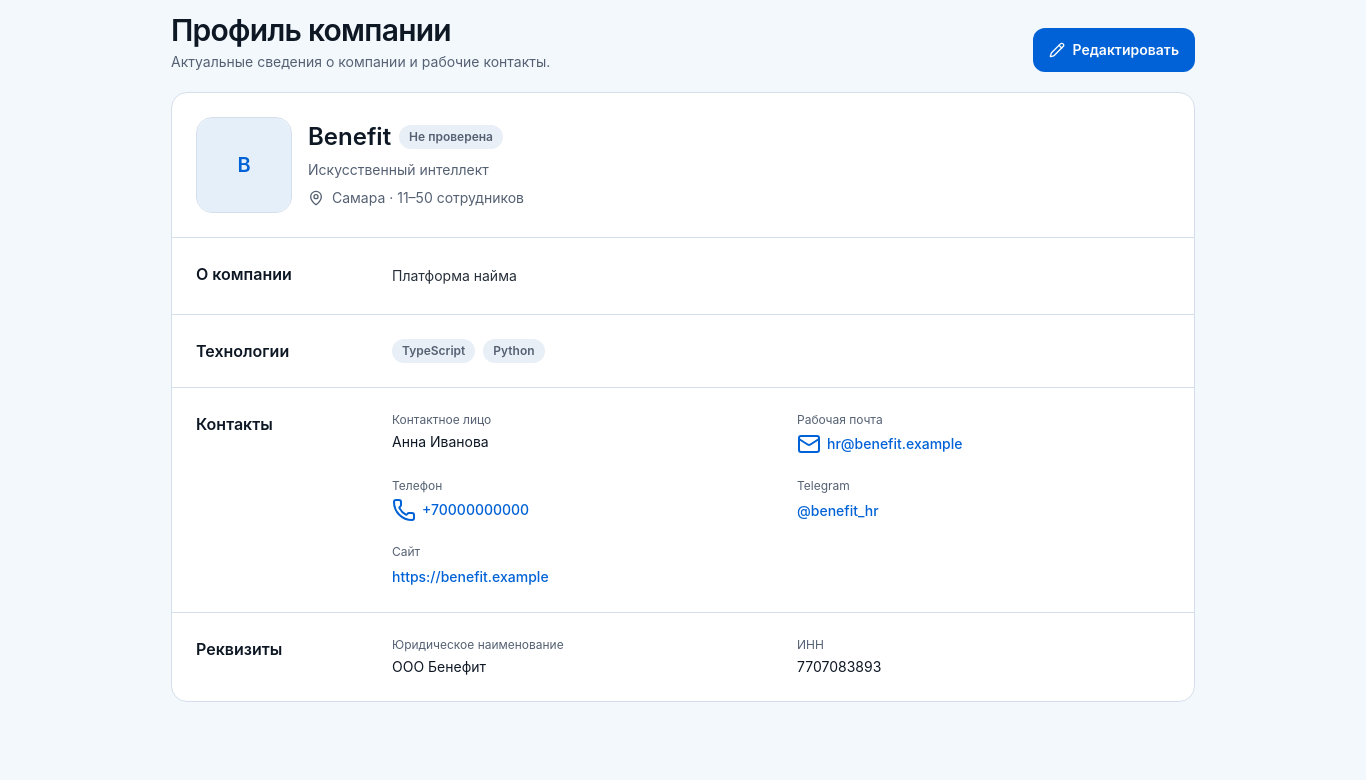
Test: employer company profile › loads every field, sends a full PUT and resets from the server response
The width and height of the screenshot is (1366, 780).
Click the button "Редактировать": click(1114, 50) [1033,28,1195,72]
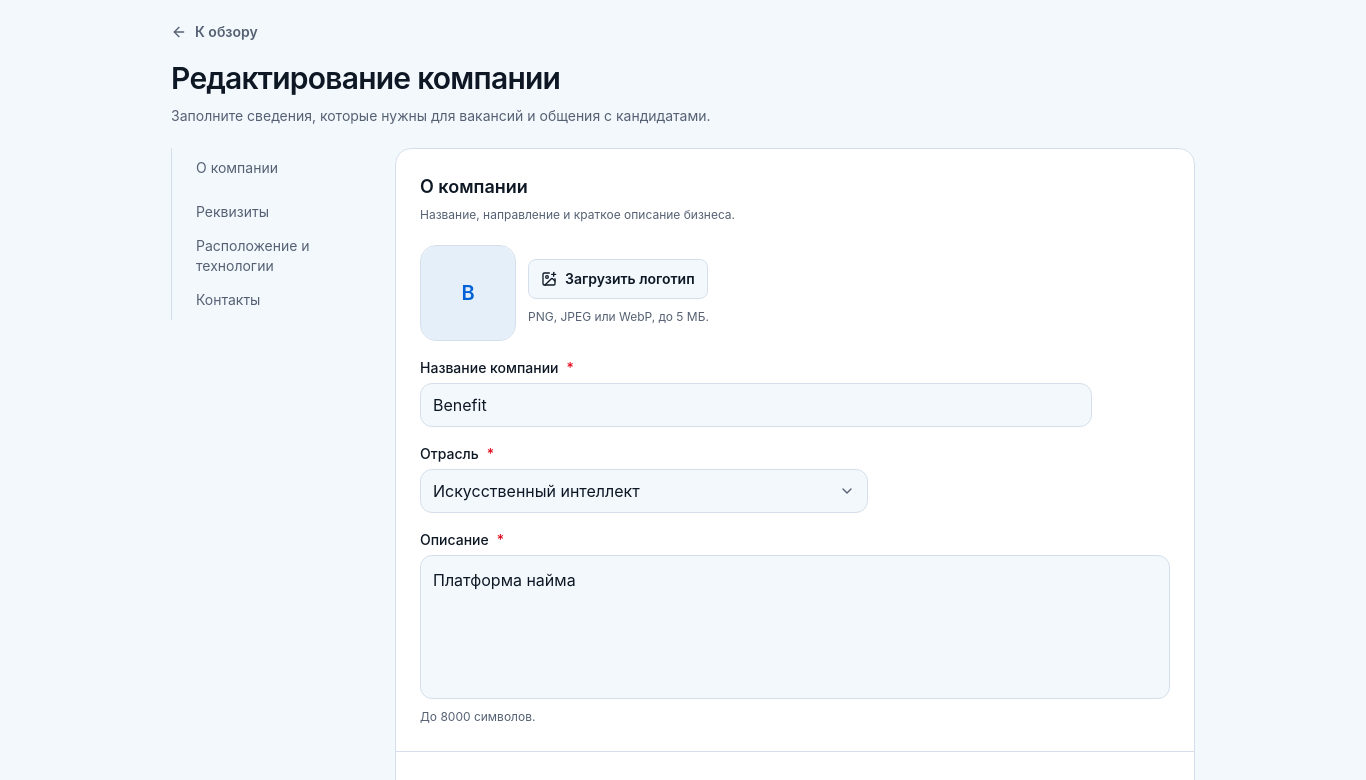
expect the field labelled "Название компании *" holds "Benefit": met
Clear the field labelled "Название компании *": (756, 405) [420,383,1092,427]
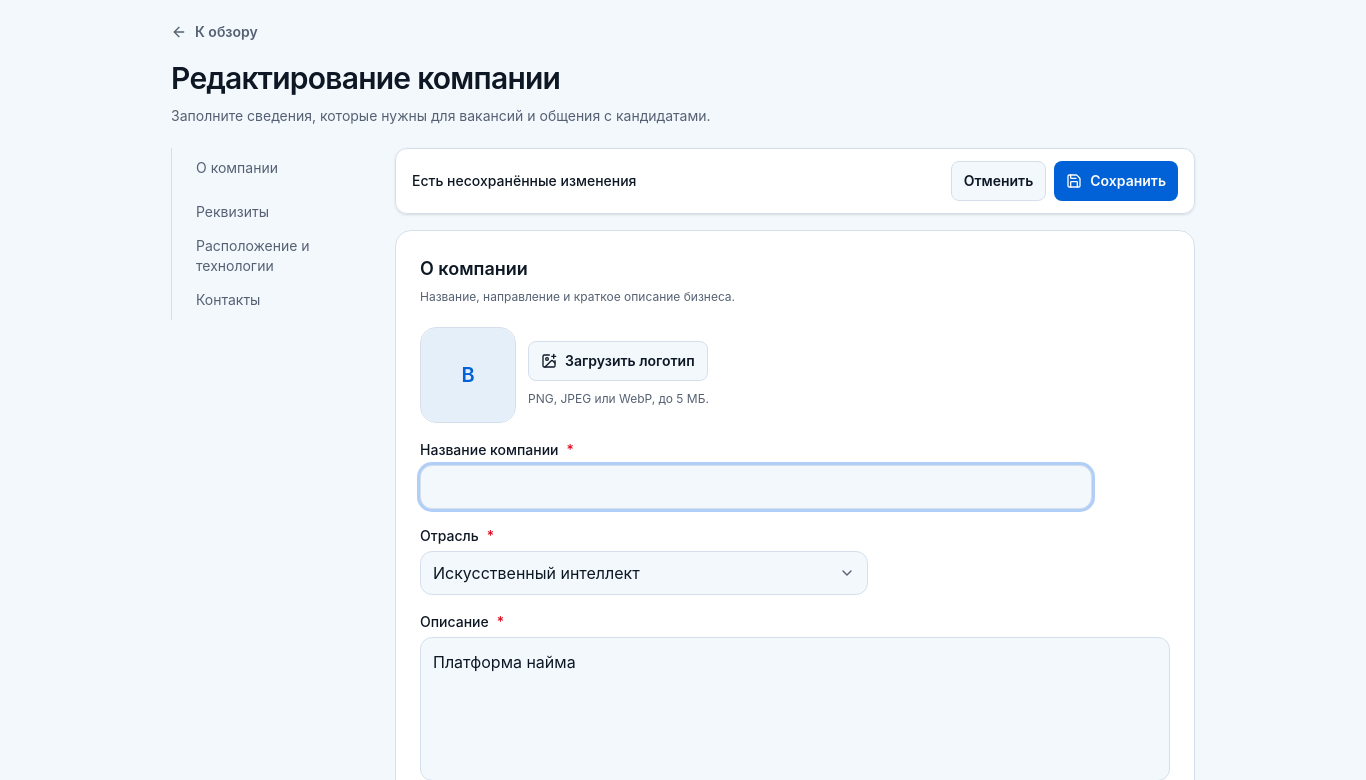
In the field labelled "Название компании *": (756, 487) [420,465,1092,509], type "Benefit new"
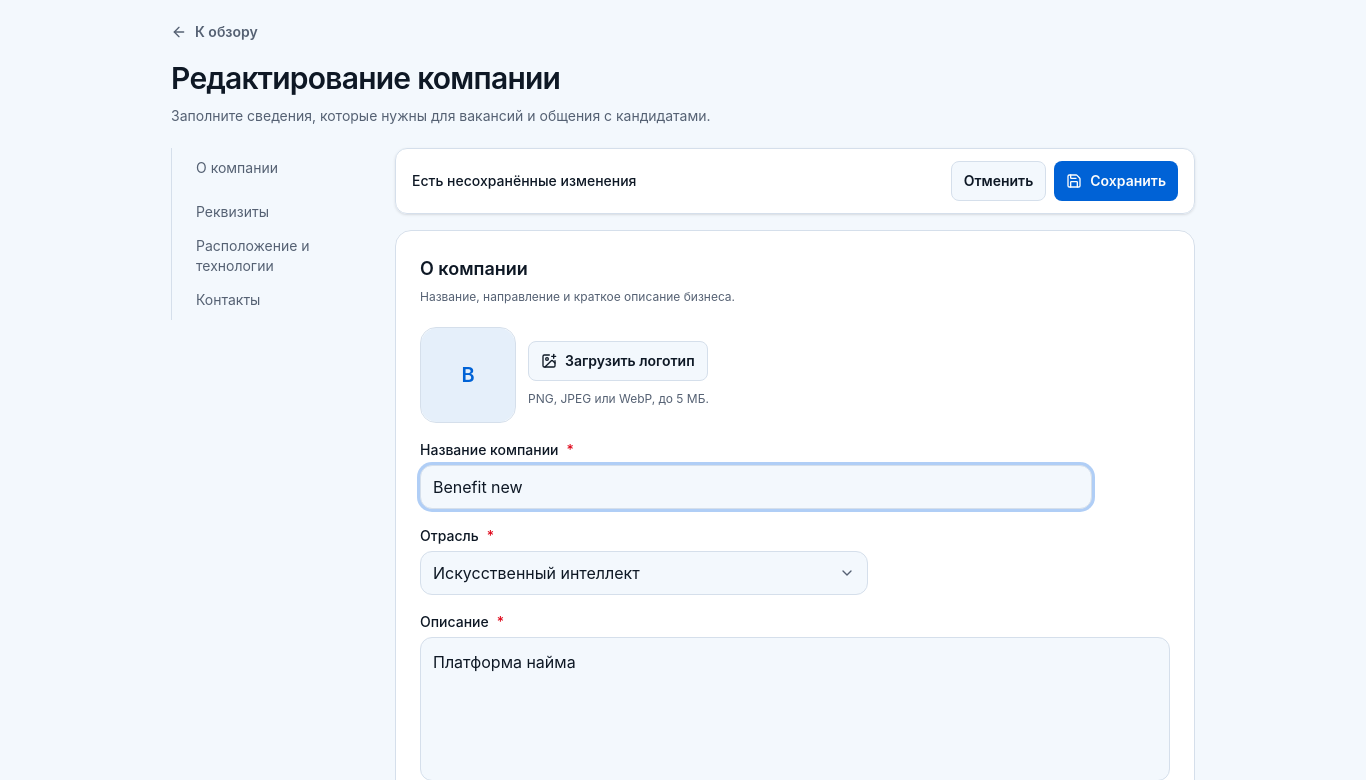
Click the button "Сохранить": click(1116, 181) [1054,161,1178,201]
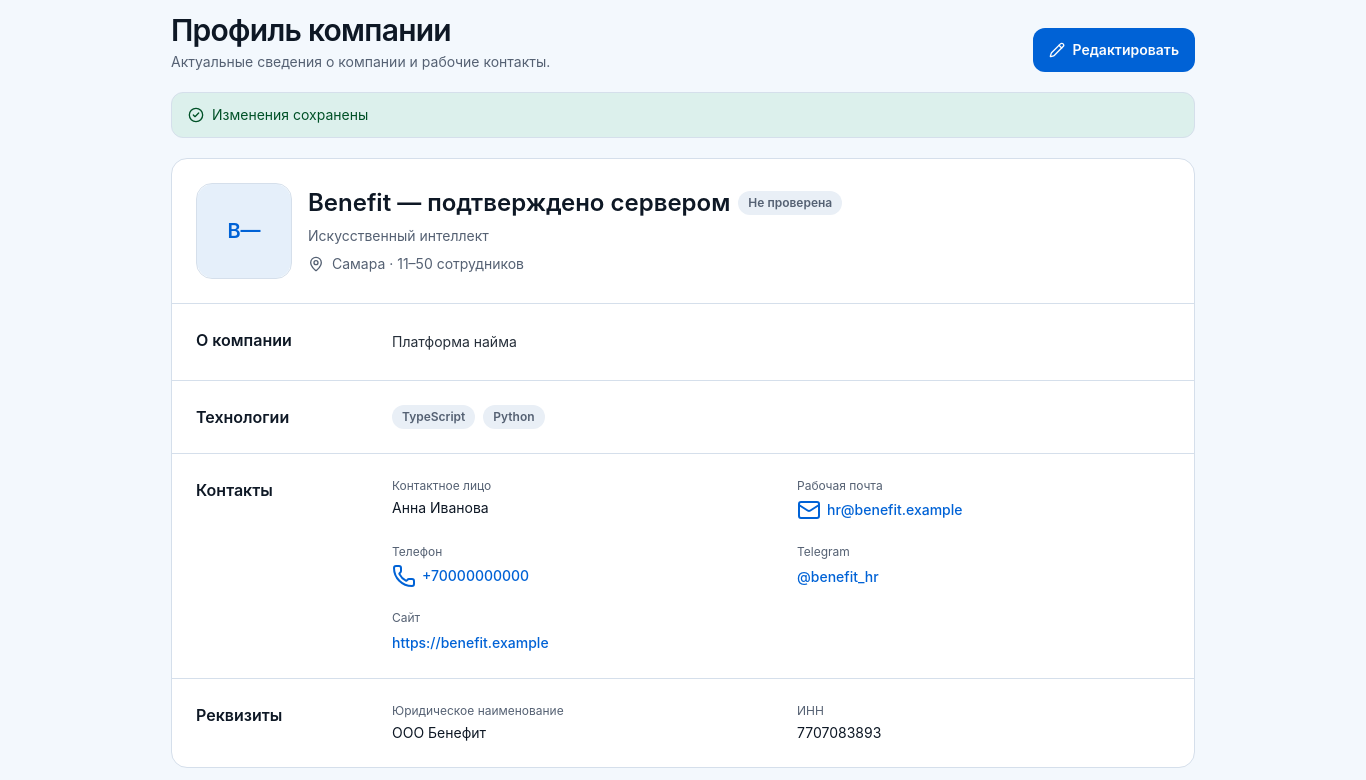
expect the heading "Benefit — подтверждено сервером" is shown: met, box [308,188,730,218]
expect the text "Изменения сохранены" is shown: met, box [171,92,1195,138]
